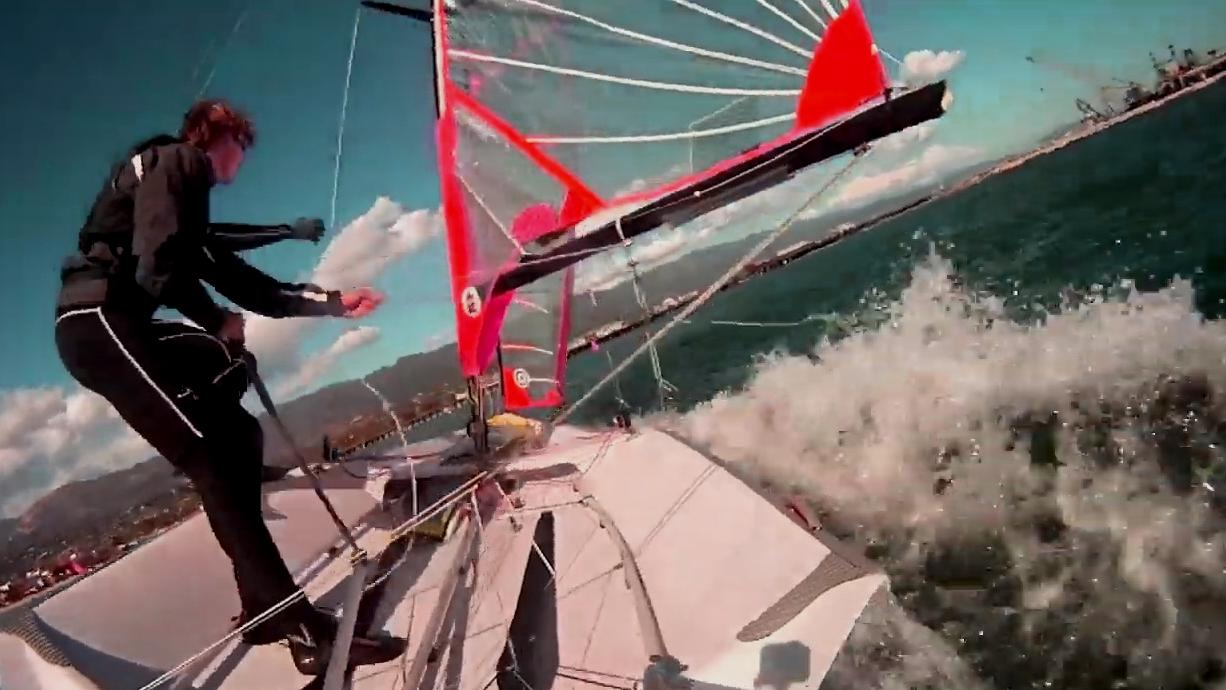land: (567, 58, 1226, 356), (0, 459, 204, 614), (262, 348, 468, 480)
person: (55, 102, 384, 620), (151, 218, 326, 364)
sea: (556, 62, 1226, 690), (345, 405, 472, 475), (0, 576, 84, 632)
sky: (0, 0, 454, 527), (571, 0, 1226, 293)
